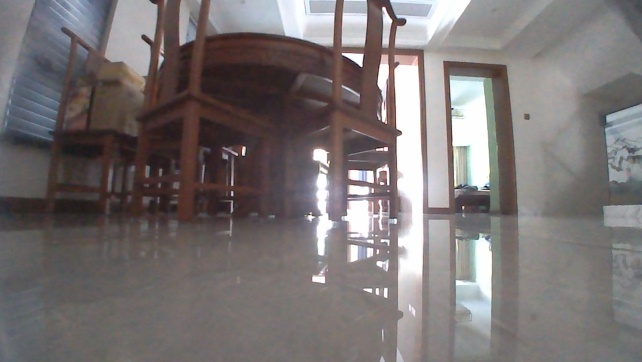bed1: (454, 182, 490, 212)
dining_table: (40, 0, 409, 221)
